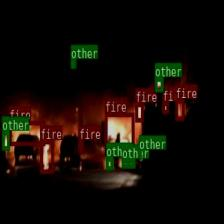fire: (104, 112, 134, 155), (8, 120, 45, 144), (40, 140, 53, 172), (175, 98, 184, 120), (135, 102, 143, 122), (162, 101, 168, 113), (78, 139, 82, 152)
